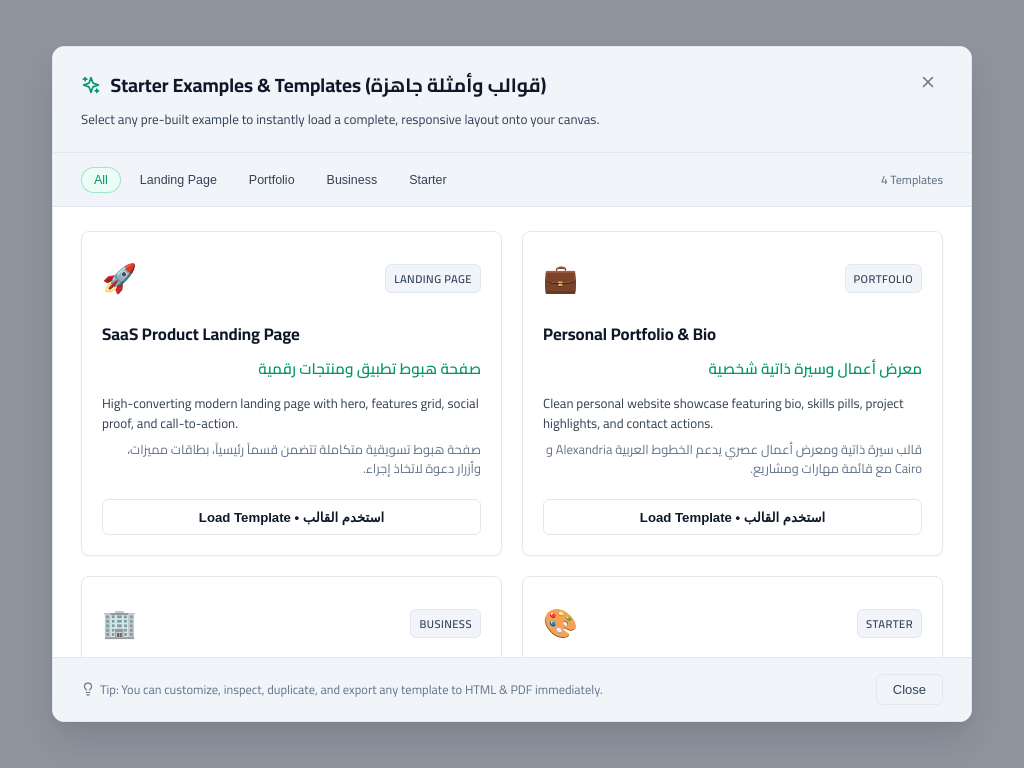
it: TemplatesModal Component › filters templates when category tab is clicked
Click the tab with test id "tab-cat-portfolio" at (272, 180), box x1=236 y1=167 x2=308 y2=193
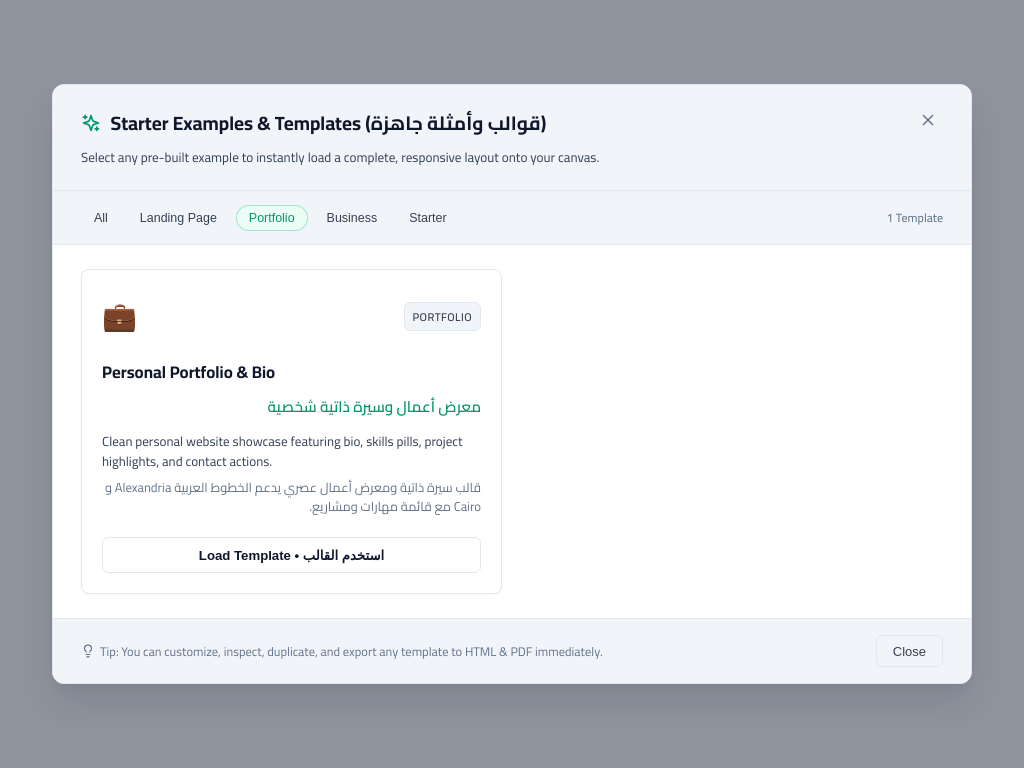
Check: the element with test id "template-card-personal-portfolio" is shown, box x1=81 y1=269 x2=502 y2=594
Check: the element with test id "template-card-saas-landing" is gone
